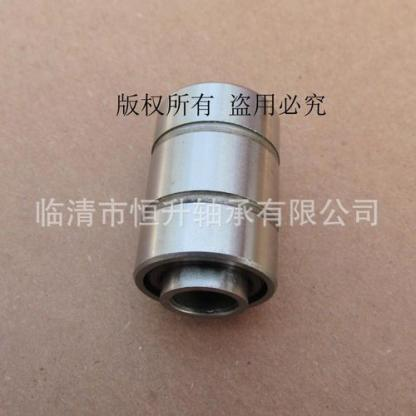FOD: (129, 77, 289, 322)
